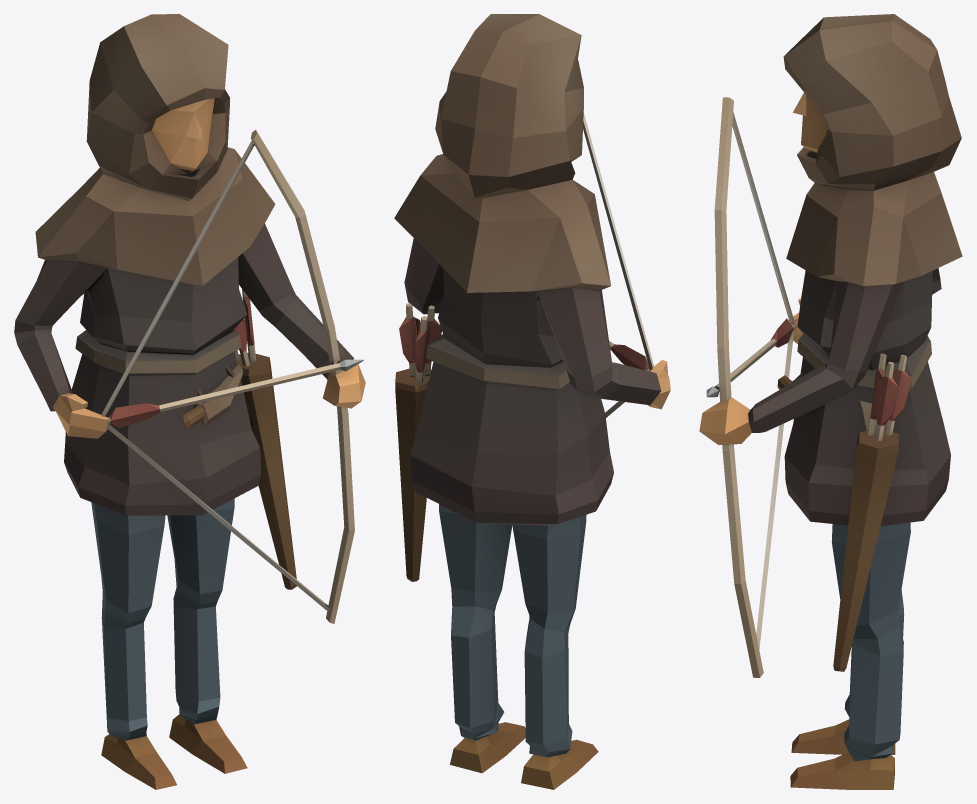
File: Archer.gltf
3 views of the same model, side by side, from view 1: azimuth 30°, elevation 25°; view 2: azimuth 150°, elevation 25°; view 3: azimuth 270°, elevation 25° (orthographic). The views are drawn at different scales.
Visible parts, largest first — view 1: node-0; view 2: node-0; view 3: node-0.
Part boxes in pixels (box(x1,y1,x2,y2)): node-0: box(14, 14, 365, 789); node-0: box(394, 14, 670, 789); node-0: box(699, 14, 962, 789).
Bounding box in the file's own units: 4.29 × 11.27 × 3.62.
Materials: 1 (1 with a texture image).
